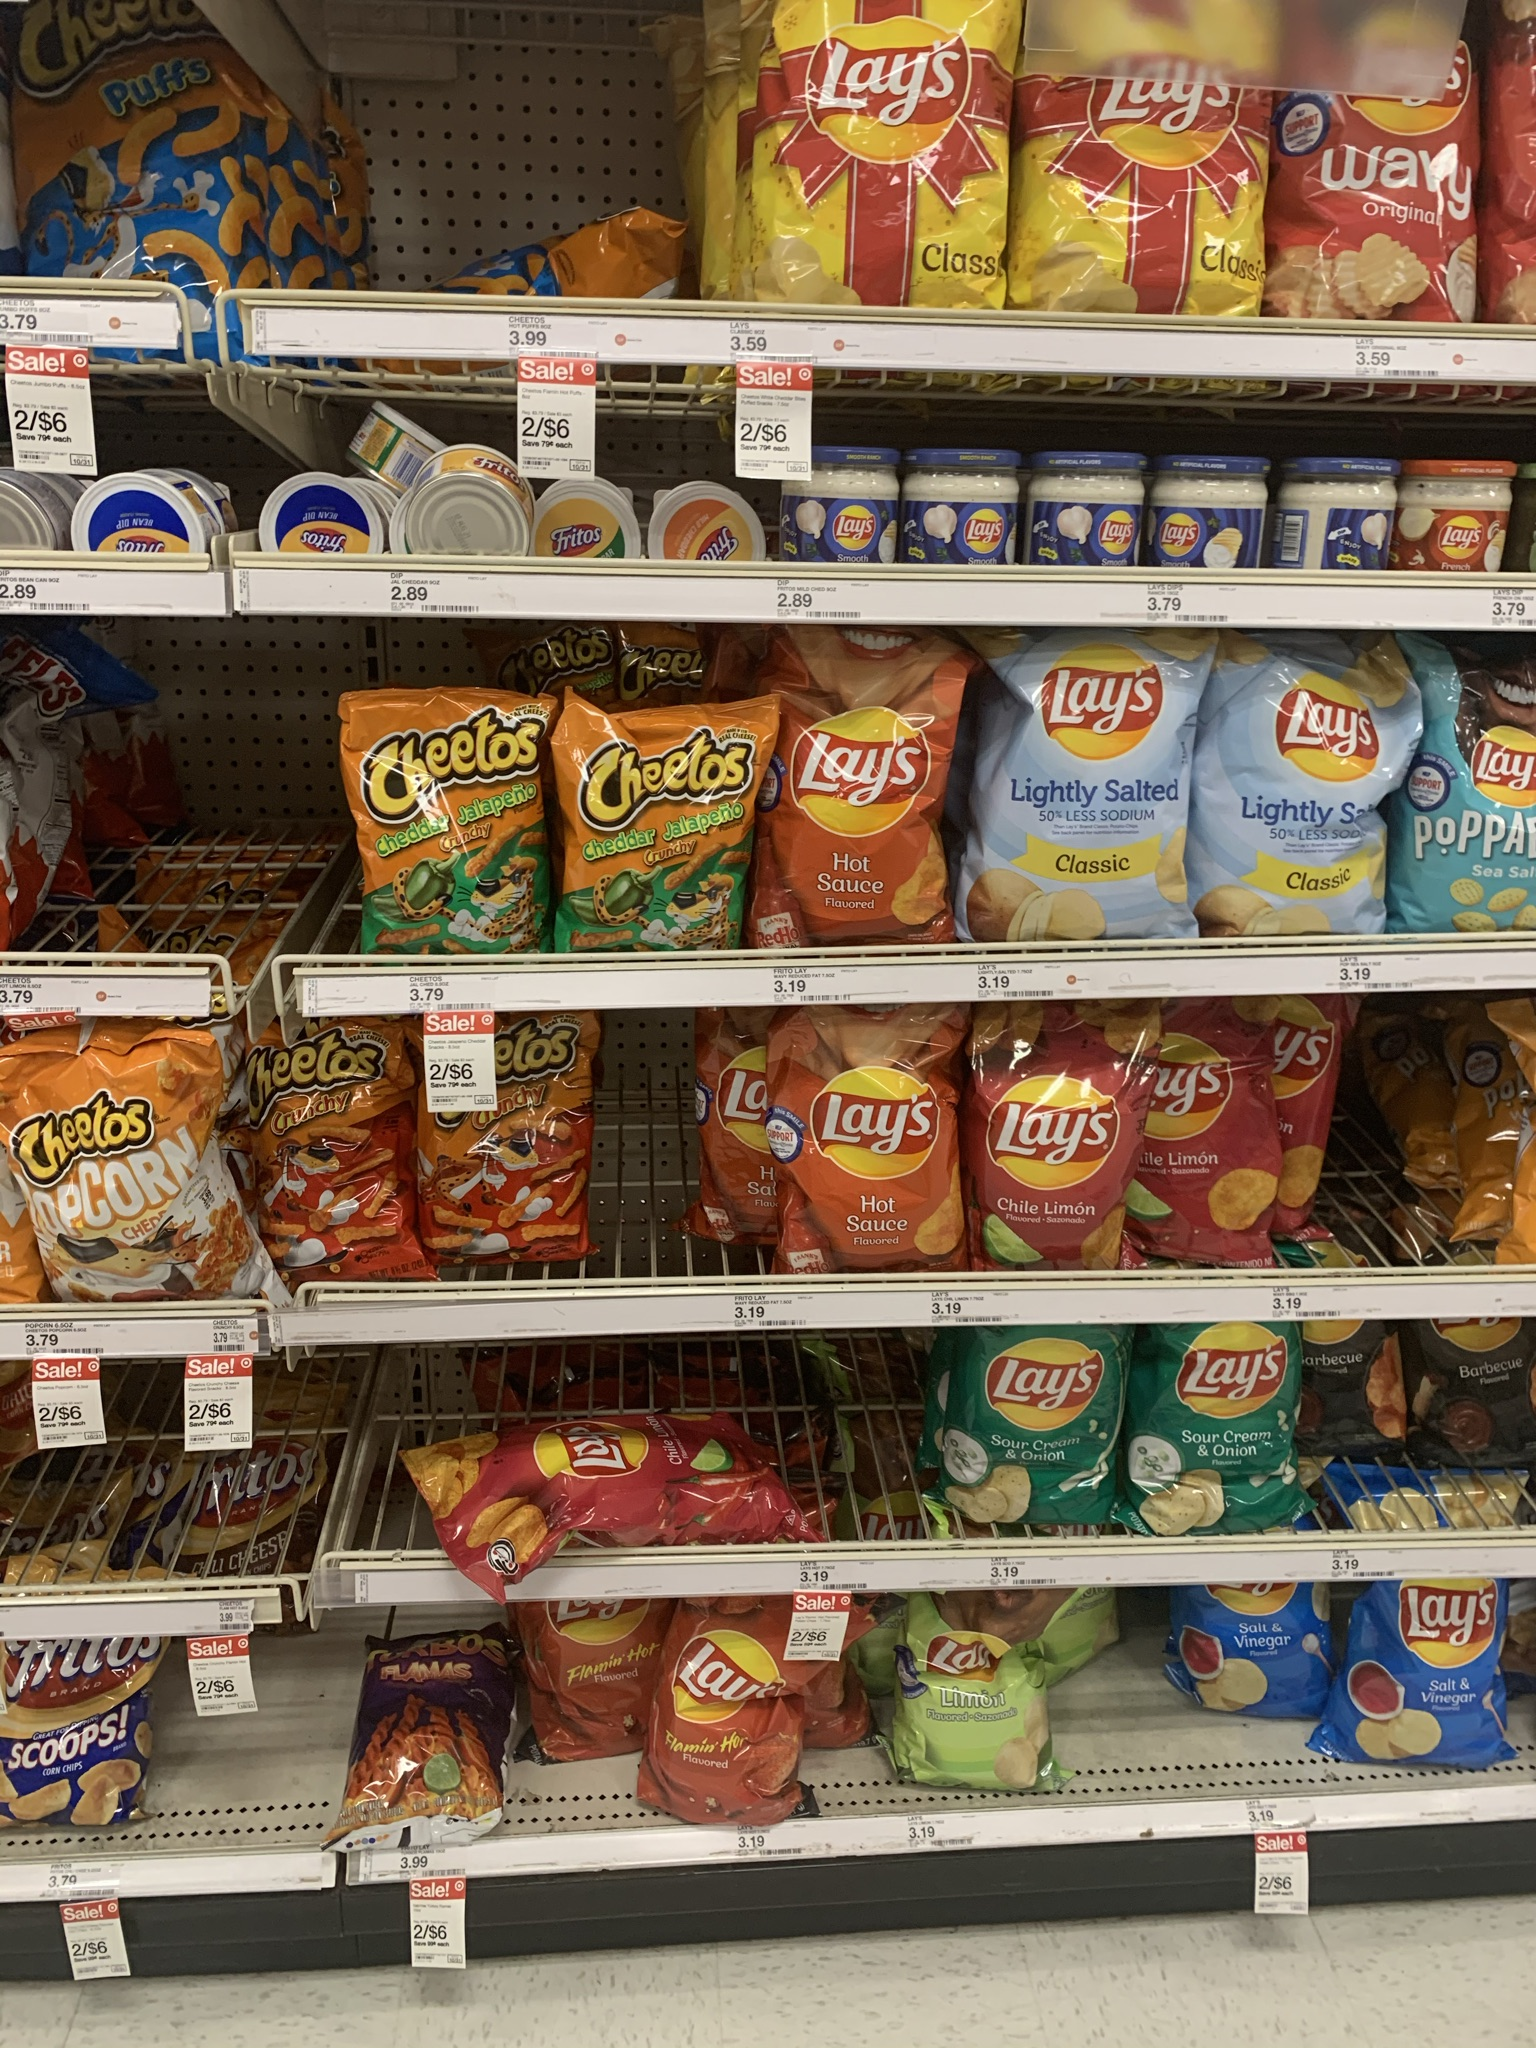chip: (2, 2, 282, 293), (765, 2, 1004, 313), (1042, 2, 1265, 313), (983, 621, 1186, 959), (1260, 2, 1473, 313), (6, 1050, 240, 1327), (763, 622, 957, 951), (1208, 618, 1394, 940), (773, 992, 957, 1272), (349, 698, 537, 968), (236, 1018, 415, 1293), (392, 1417, 737, 1559), (553, 706, 744, 961), (978, 1005, 1146, 1279), (432, 1019, 599, 1268), (687, 1596, 828, 1834), (1350, 1593, 1525, 1775), (352, 1625, 497, 1842), (966, 1317, 1107, 1534), (886, 1609, 1049, 1787), (2, 1638, 144, 1837), (1165, 1338, 1292, 1530), (536, 1593, 673, 1755), (1425, 1309, 1536, 1471), (1191, 1585, 1321, 1719), (1305, 1313, 1409, 1455)
